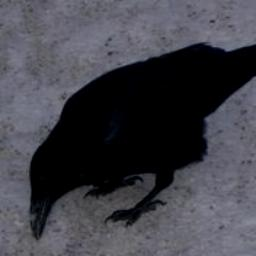Crow: (31, 35, 256, 239)
